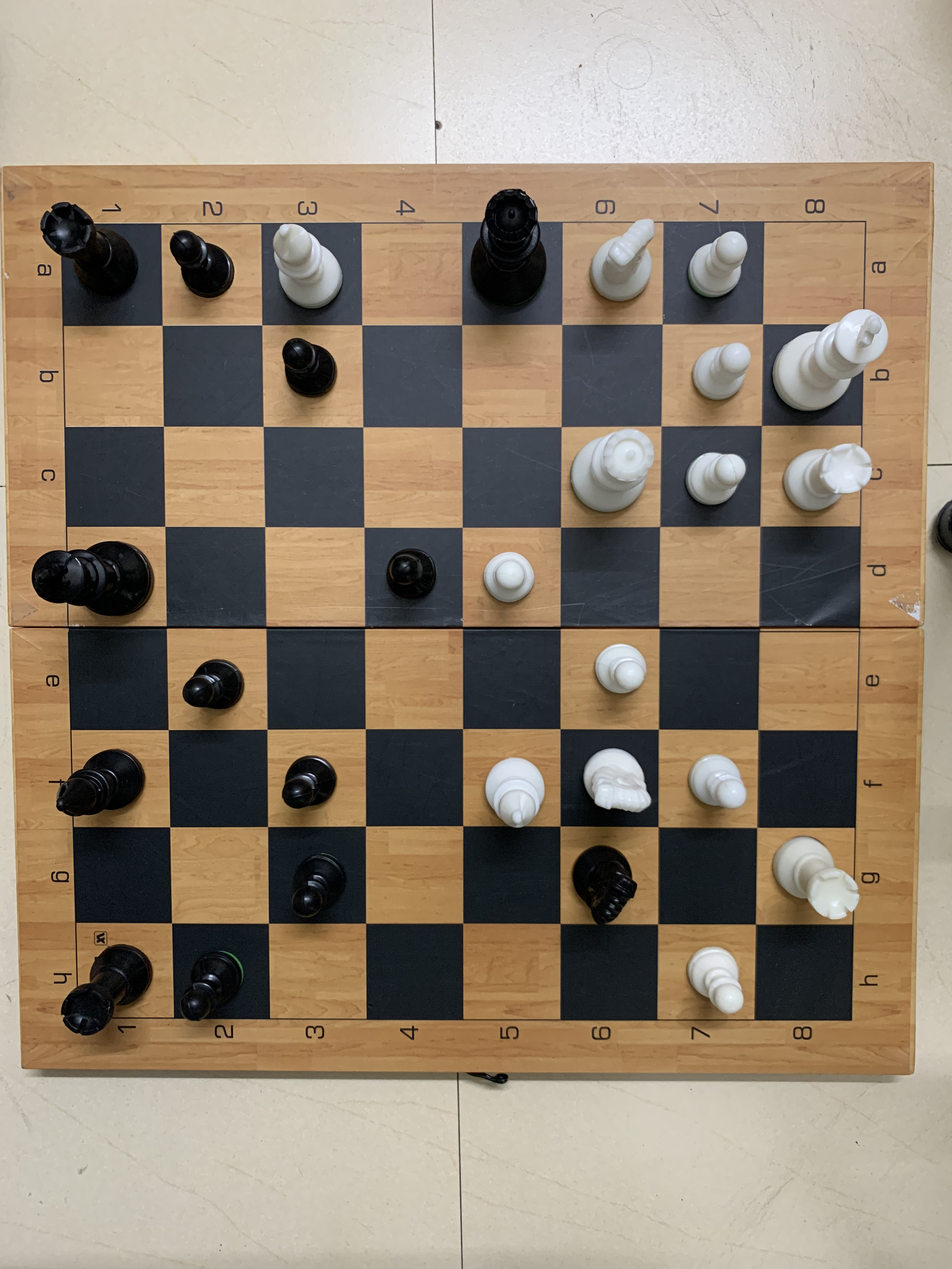black_bishop: (41, 743, 161, 823)
black_king: (23, 540, 165, 620)
black_rook: (32, 192, 144, 305), (57, 939, 157, 1046)
white_bishop: (259, 215, 348, 312), (168, 229, 240, 307)
